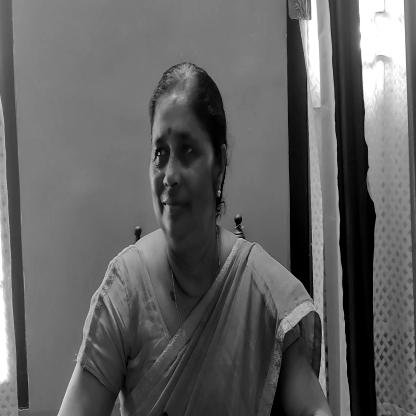Distracted: (139, 62, 225, 236)
